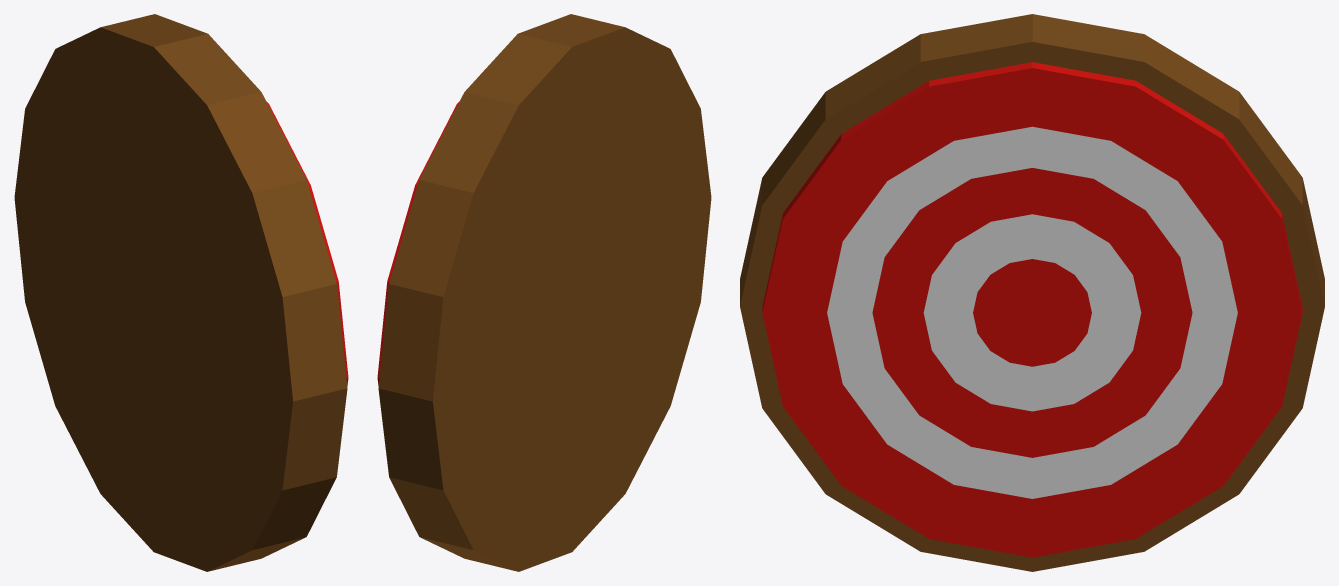
The model's file is Target.fbx.
3 views of the same model, side by side, from view 1: azimuth 30°, elevation 25°; view 2: azimuth 150°, elevation 25°; view 3: azimuth 270°, elevation 25° (orthographic). The views are drawn at different scales.
Parts seen in each view (by area): view 1: Target; view 2: Target; view 3: Target.
Boxes of the visible parts, box(x1,y1,x2,y2) form: Target: box(14, 14, 348, 571); Target: box(377, 14, 711, 571); Target: box(740, 14, 1324, 571).
Bounding box in the file's own units: 131 × 958 × 958.
